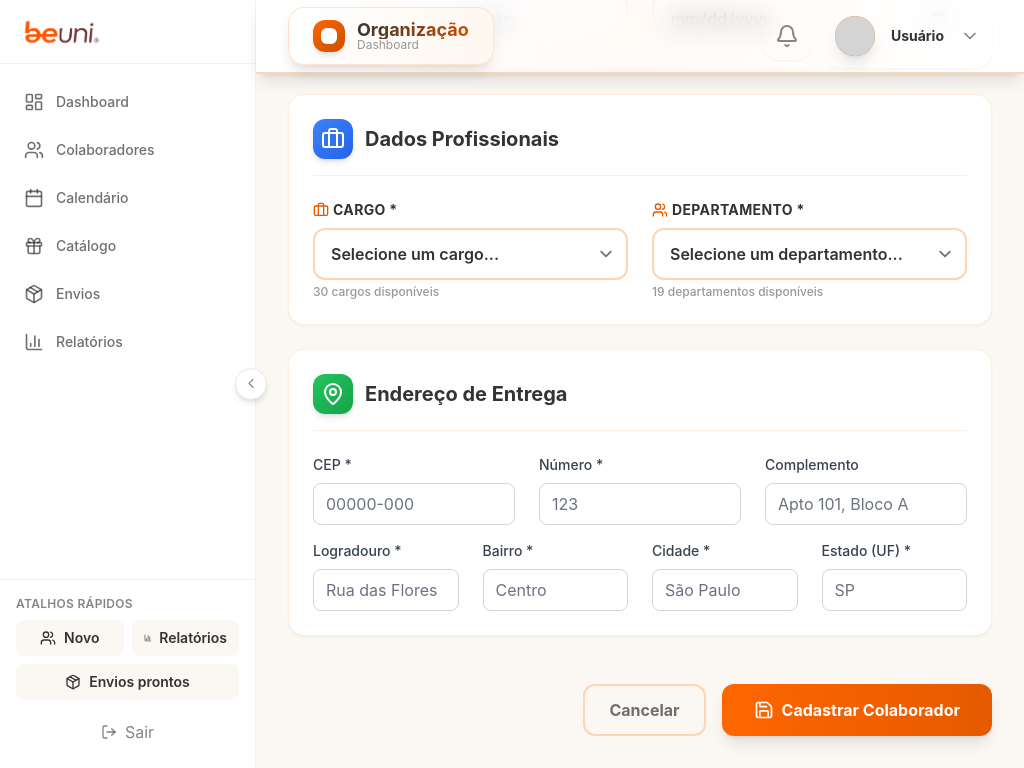
Test case: ColaboradorForm - Security & Validation Tests › Form Rendering in Create Mode › should validate CEP input format
(page scrolled)
Check: the button "Cadastrar Colaborador" is shown, box [722, 684, 992, 736]
Valid 8-digit CEP (formatted with hyphen)
Type "12345678" into the field labelled "CEP *" at (414,504), box [313, 483, 515, 525]
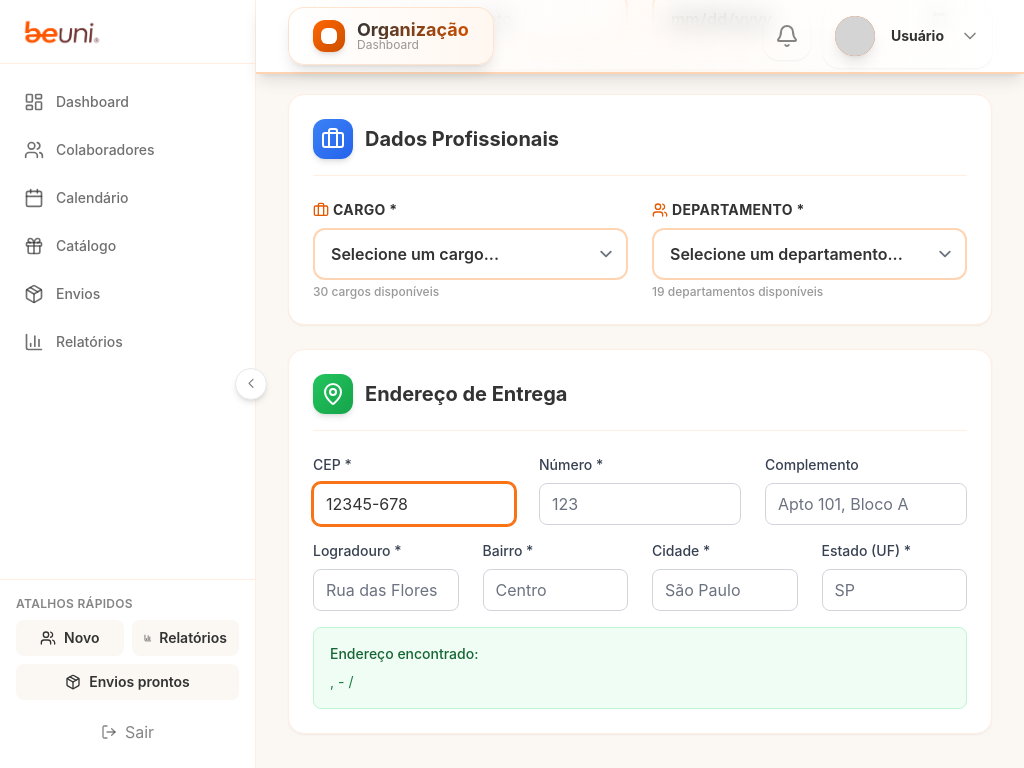
Check: the field labelled "CEP *" holds "12345-678", box [313, 483, 515, 525]
